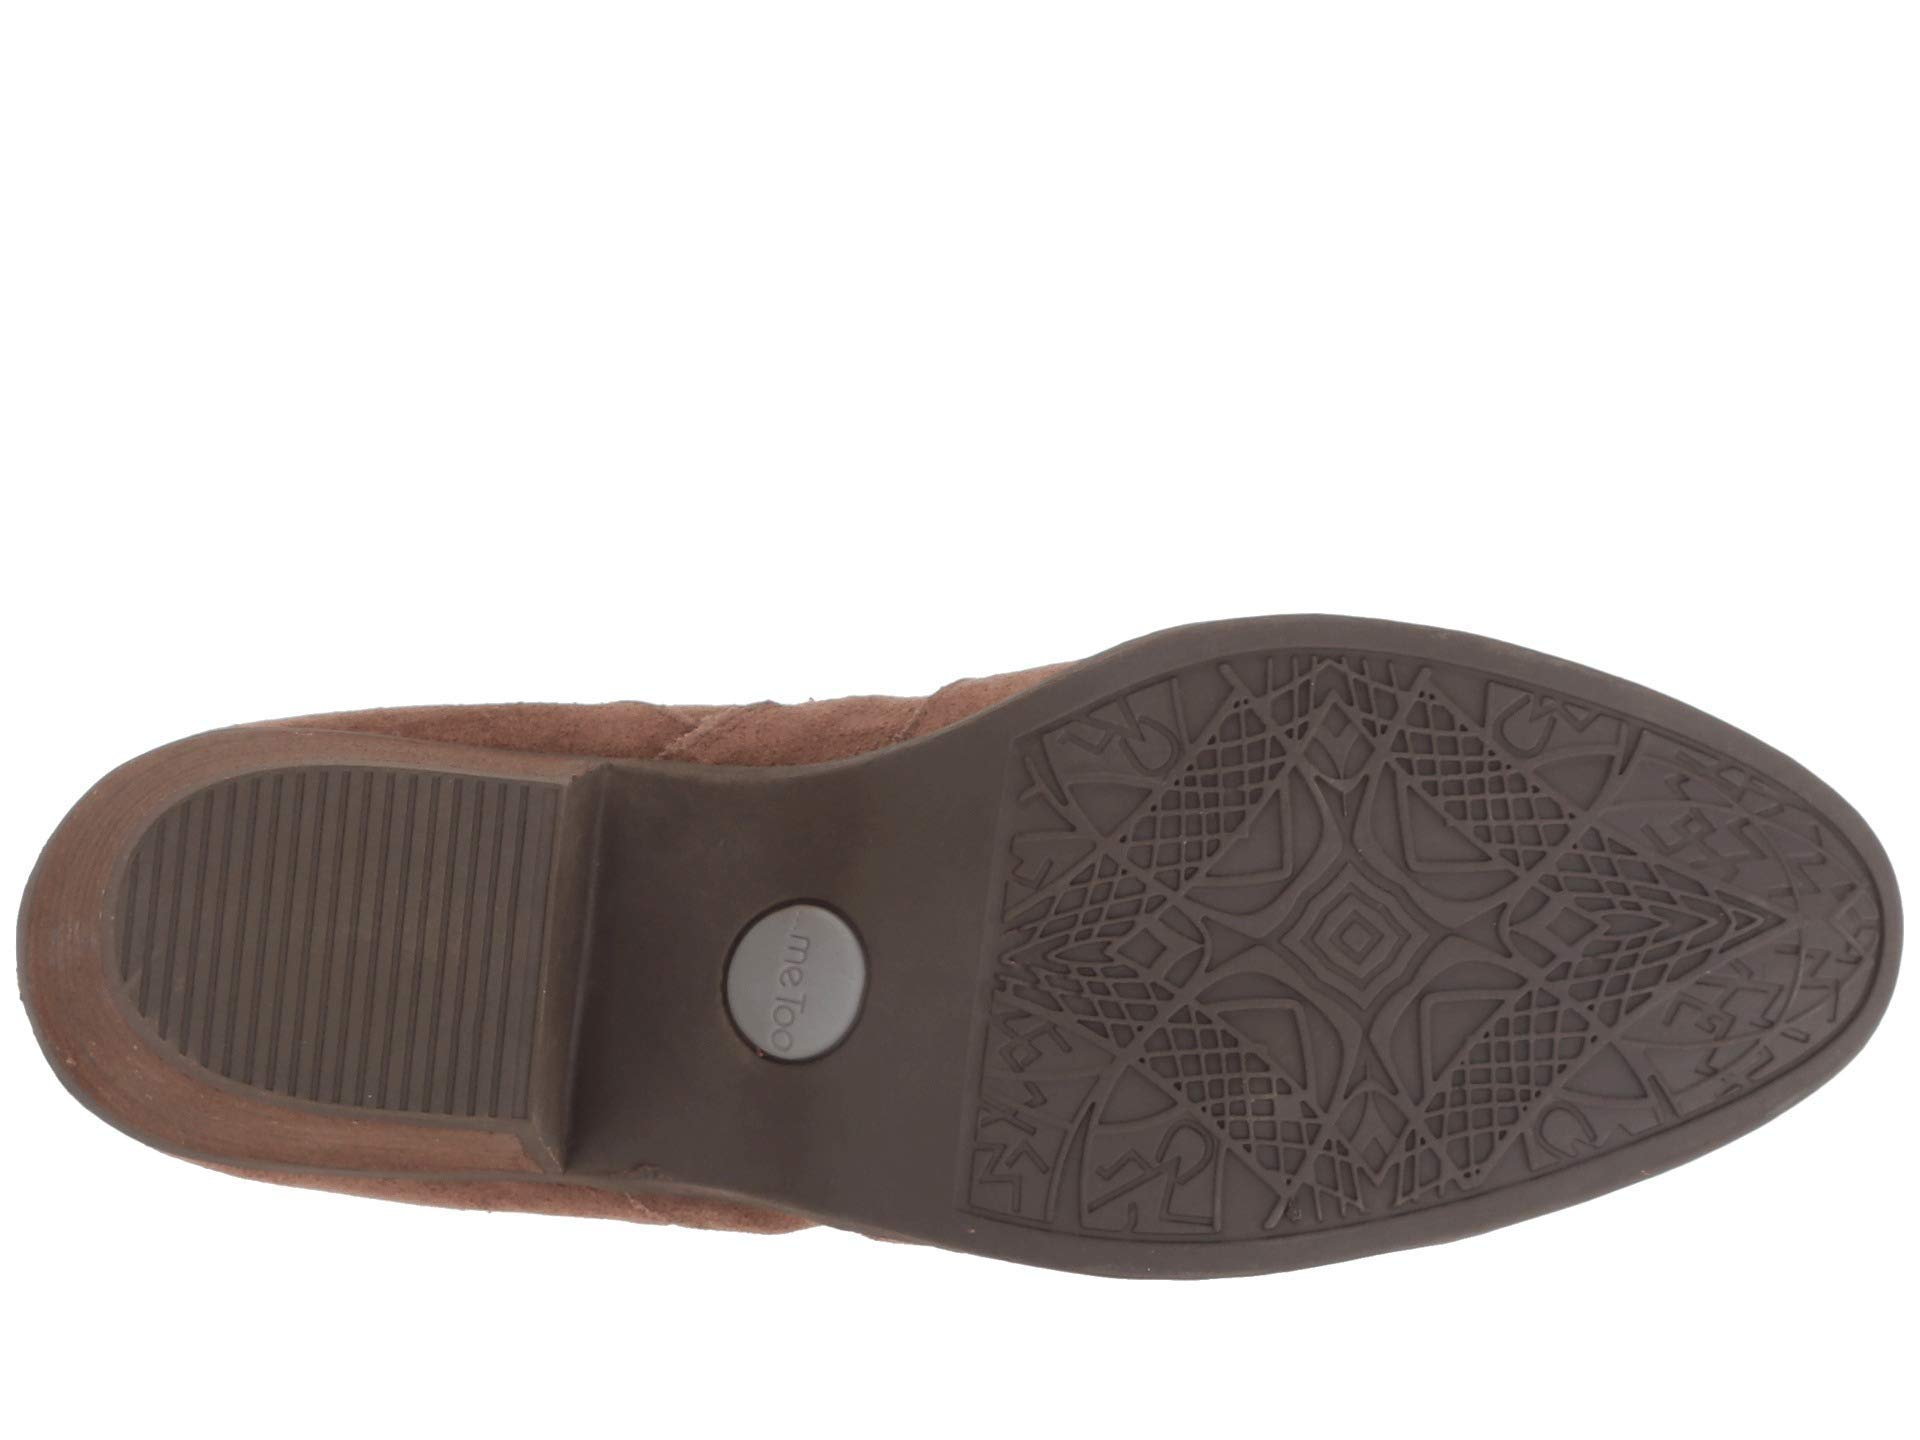circle: (724, 876, 862, 1083)
line: (225, 826, 469, 1053)
text: (724, 876, 862, 1083)
